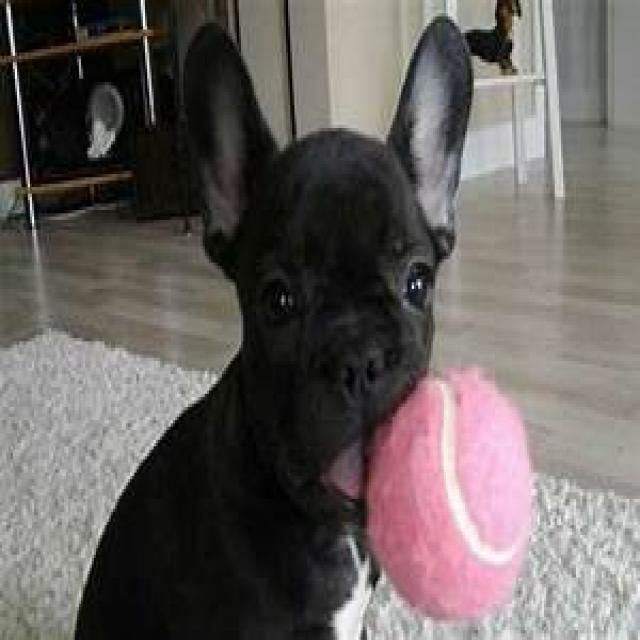dog: (70, 16, 476, 640)
